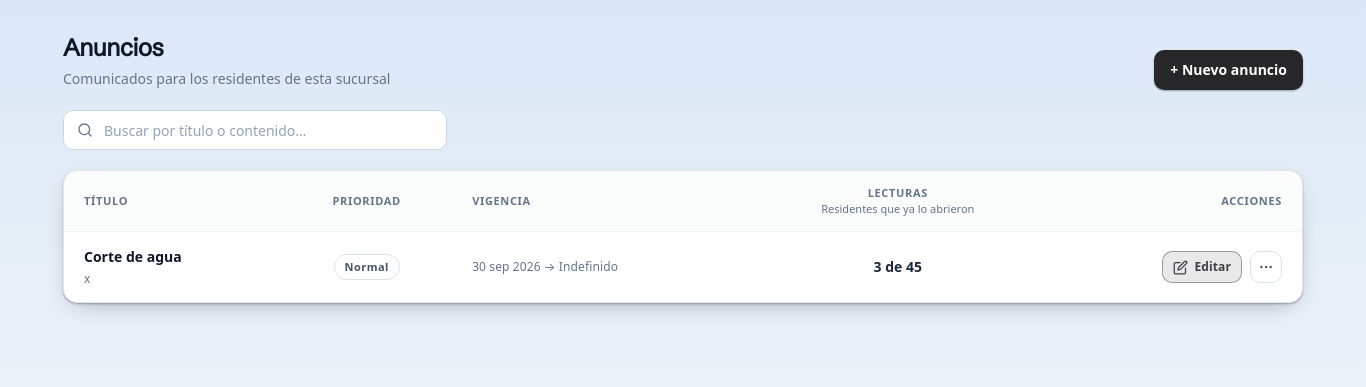
Test case: AnunciosPage (administrador) — «Lecturas» explicada › «Editar» está a la vista y «Eliminar» en el menú, no al mismo nivel
The width and height of the screenshot is (1366, 387).
Expected: the button "Editar" is shown, [1162,251,1242,283]
Expected: the button "Eliminar" is not shown
Click the button named "Acciones: Corte de agua". click: {"x": 1266, "y": 267}
box: [1250,251,1282,283]
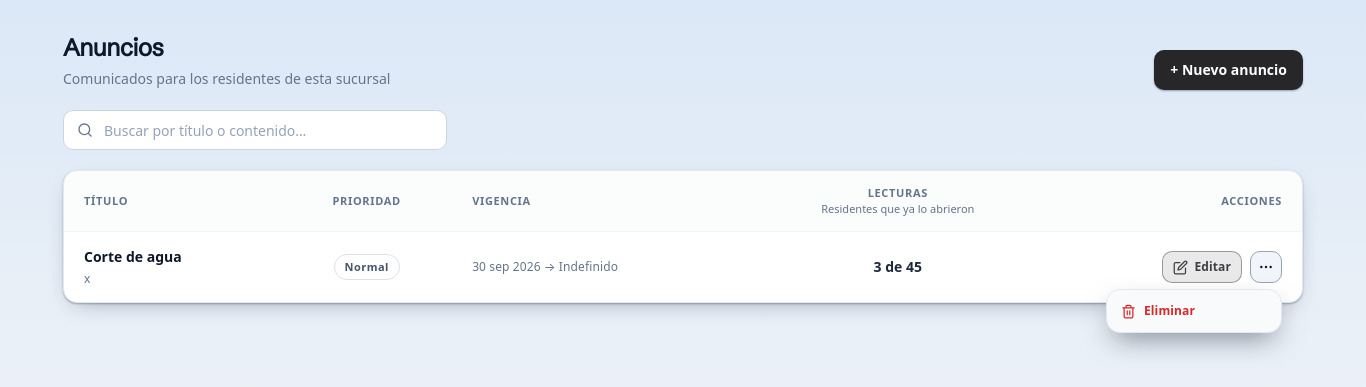
Expected: the menu item "Eliminar" is shown, [1111,294,1277,328]
